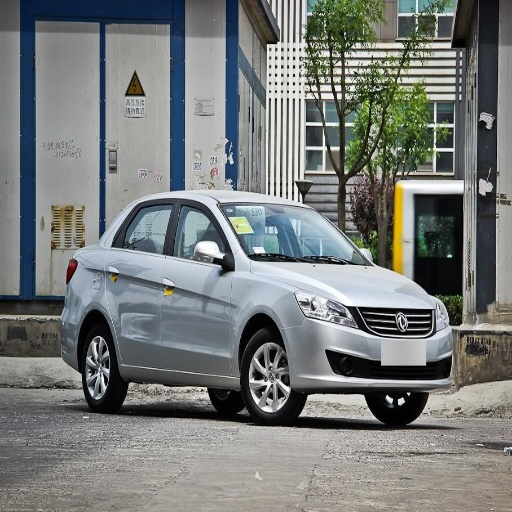back_right_door: (106, 199, 174, 366)
front_bumper: (285, 304, 457, 397)
front_right_door: (162, 200, 232, 374)
front_right_light: (296, 290, 355, 325)
